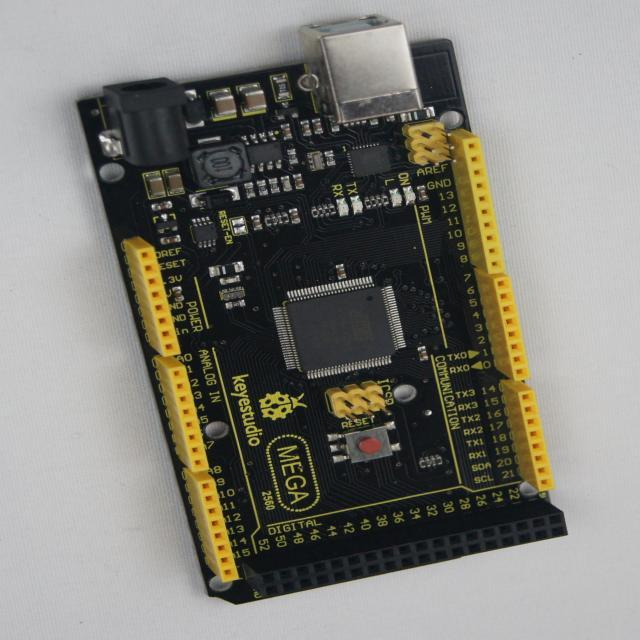Arduino Mega 2560 -Yellow-: (79, 17, 567, 604)
